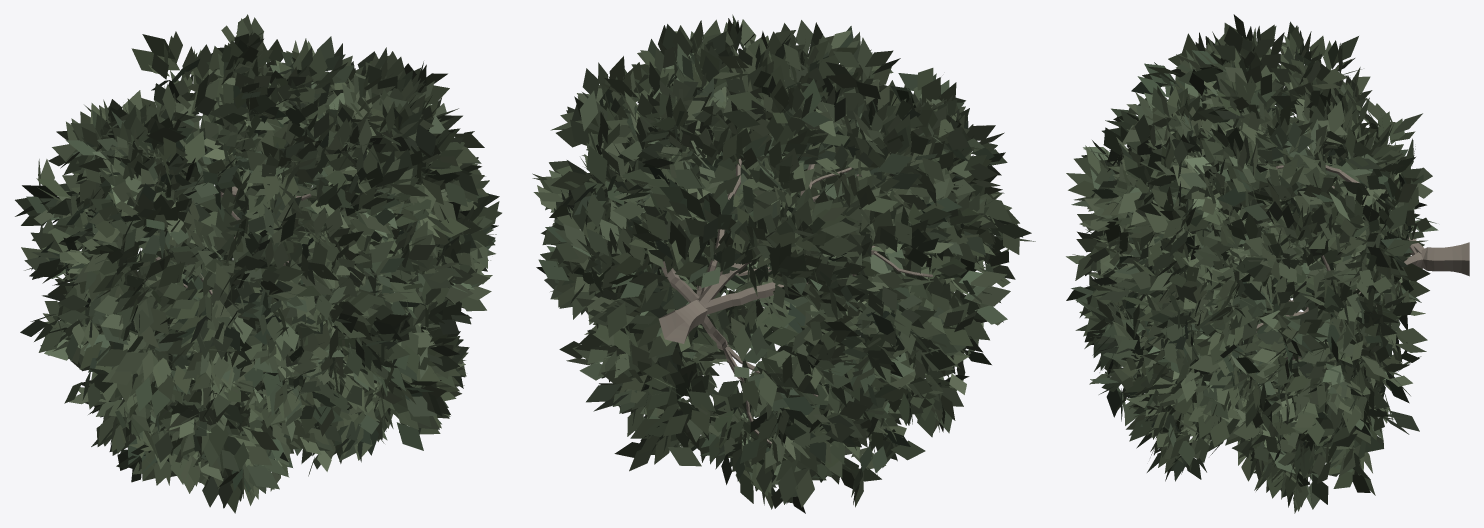
Rendered from tree_mid_06.obj.
3 renders of one model, left to right at view 1: azimuth 30°, elevation 25°; view 2: azimuth 150°, elevation 25°; view 3: azimuth 270°, elevation 25°, orthographic. The views are drawn at different scales.
Visible parts, largest first — view 1: tree_mid_06; view 2: tree_mid_06; view 3: tree_mid_06.
Part boxes in pixels (x1,y1,x2,y2): tree_mid_06: [15, 14, 501, 513]; tree_mid_06: [532, 14, 1035, 513]; tree_mid_06: [1066, 14, 1469, 513].
Bounding box in the file's own units: 1.28 × 1.22 × 1.02.
Materials: 1 (1 with a texture image).
